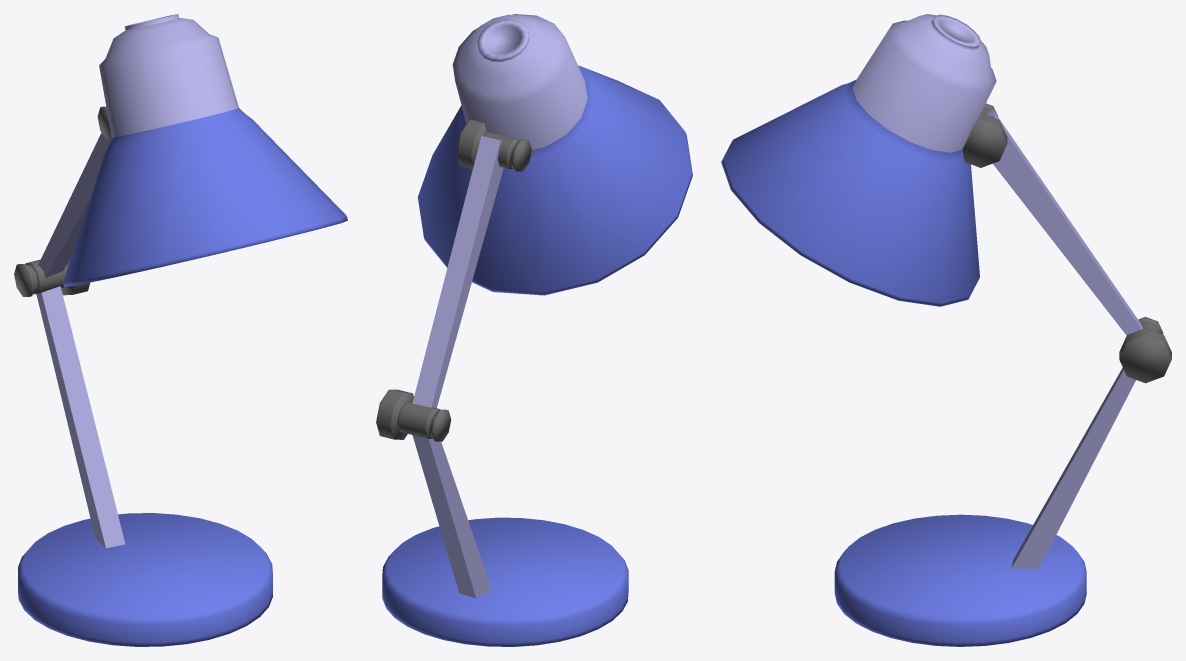
File: LampDesk.glb
3 views of the same model, side by side, from view 1: azimuth 30°, elevation 25°; view 2: azimuth 150°, elevation 25°; view 3: azimuth 270°, elevation 25° (orthographic). The views are drawn at different scales.
Visible parts, largest first — view 1: Circle; view 2: Circle; view 3: Circle.
Part boxes in pixels (x1=…): Circle: x1=14, y1=14, x2=347, y2=646; Circle: x1=376, y1=14, x2=692, y2=646; Circle: x1=721, y1=14, x2=1171, y2=646.
Bounding box in the file's own units: 0.2918 × 0.6432 × 0.4561.
